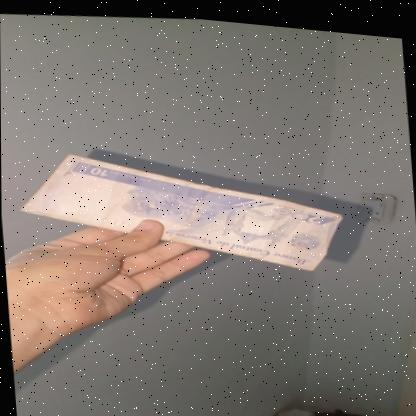ten-back-vef: (16, 130, 345, 289)
